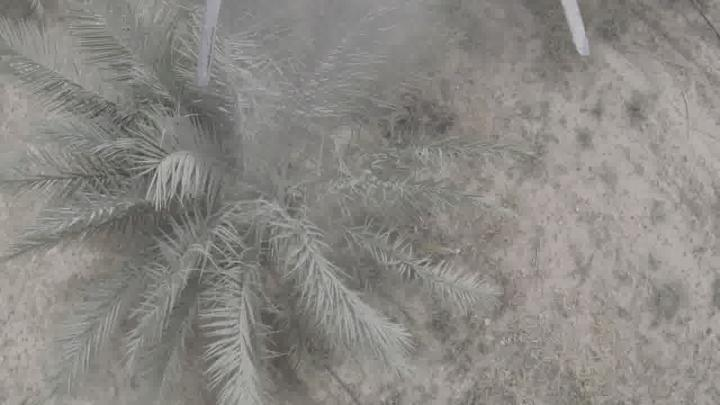Date-Palm-Crown: (88, 30, 414, 332)
